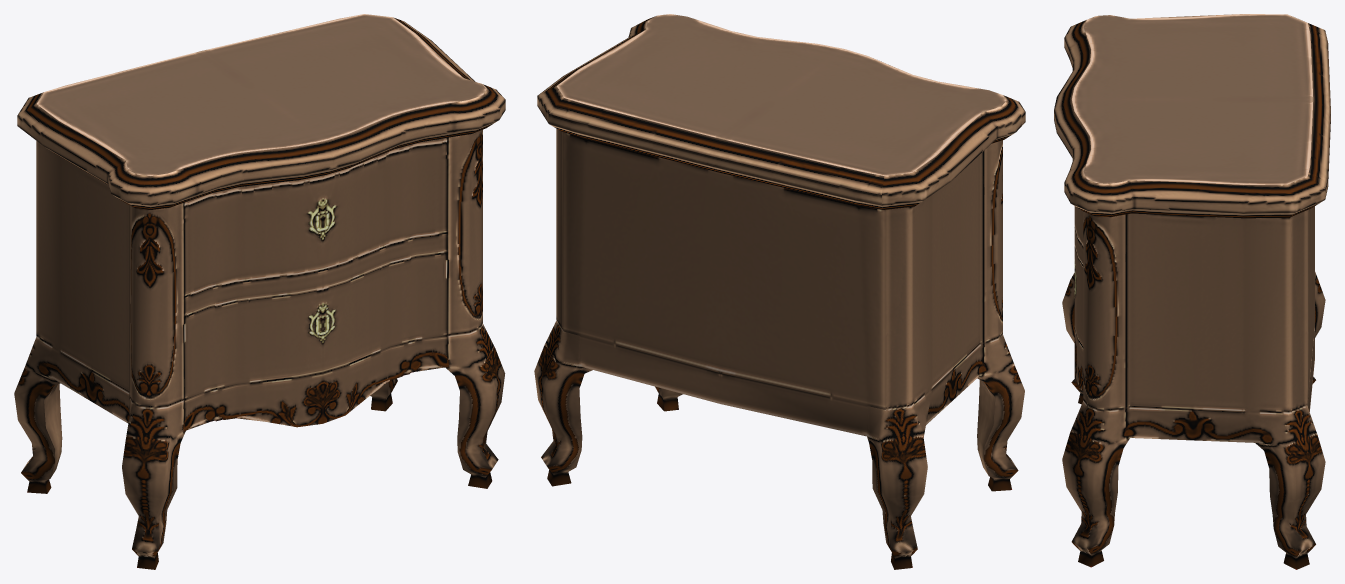
The model's file is BedsideCabinet02.FBX.
3 renders of one model, left to right at view 1: azimuth 30°, elevation 25°; view 2: azimuth 150°, elevation 25°; view 3: azimuth 270°, elevation 25°, orthographic.
Visible parts, largest first — view 1: BedsideCabinet02; view 2: BedsideCabinet02; view 3: BedsideCabinet02.
Part boxes in pixels (<box>): BedsideCabinet02: <box>14,14,505,569</box>; BedsideCabinet02: <box>534,14,1025,569</box>; BedsideCabinet02: <box>1054,14,1330,569</box>.
Bounding box in the file's own units: 79.28 × 49.27 × 75.16.
